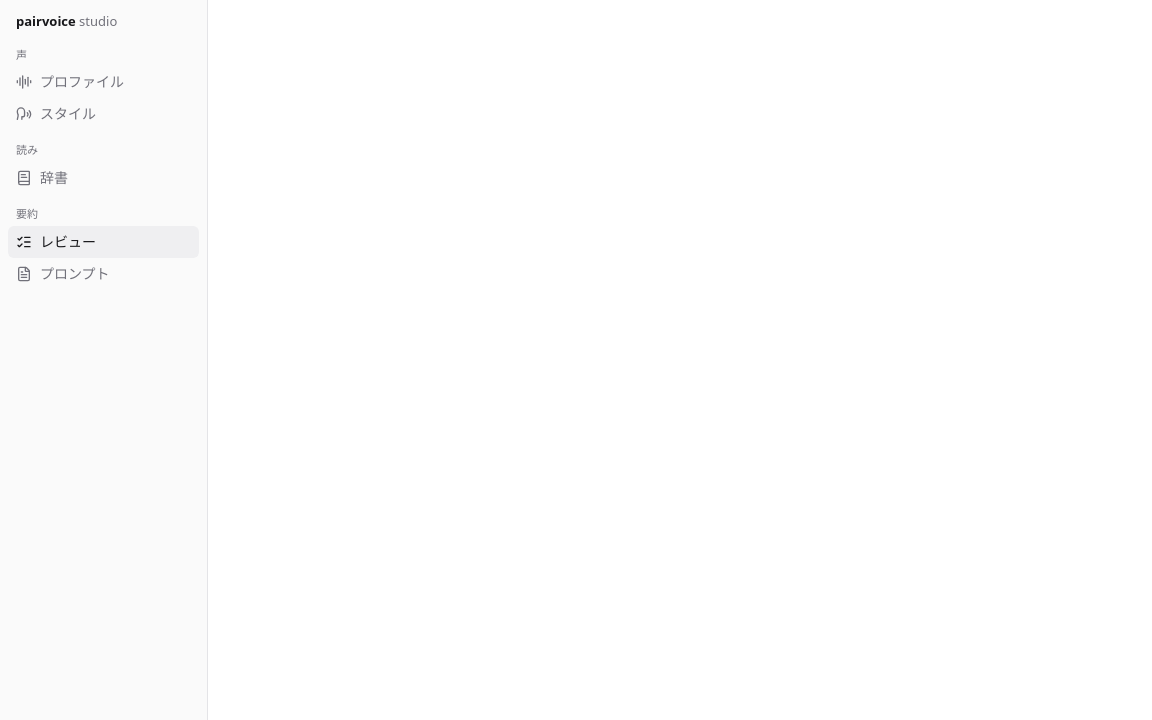
Test: ミュートに失敗したら理由を出す
Press k
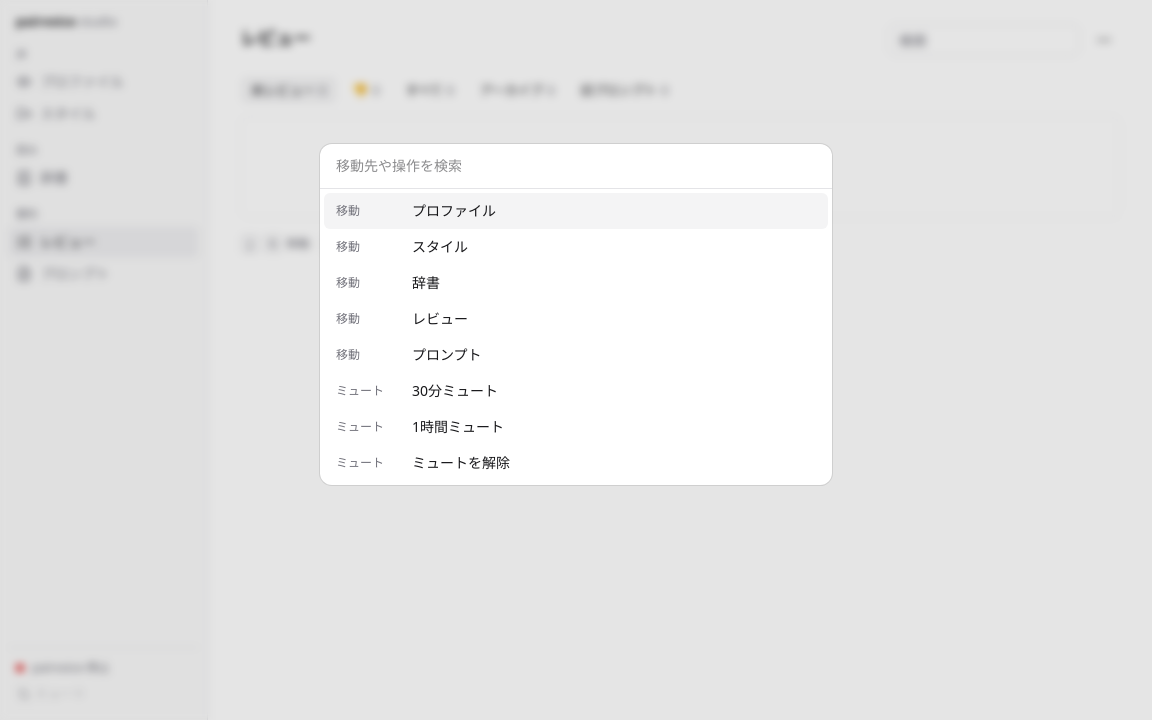
Type "30分" into the dropdown named "コマンドを検索" at x=576, y=166, box [320, 144, 832, 189]
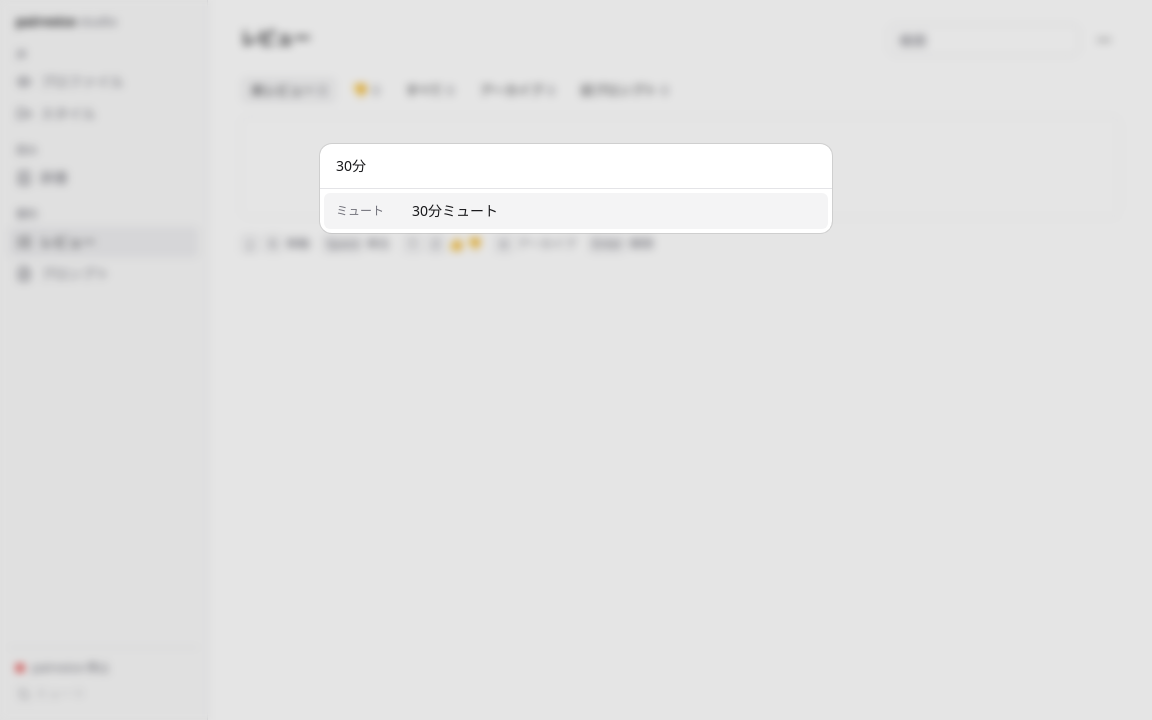
Press Enter in the dropdown named "コマンドを検索", box [320, 144, 832, 189]
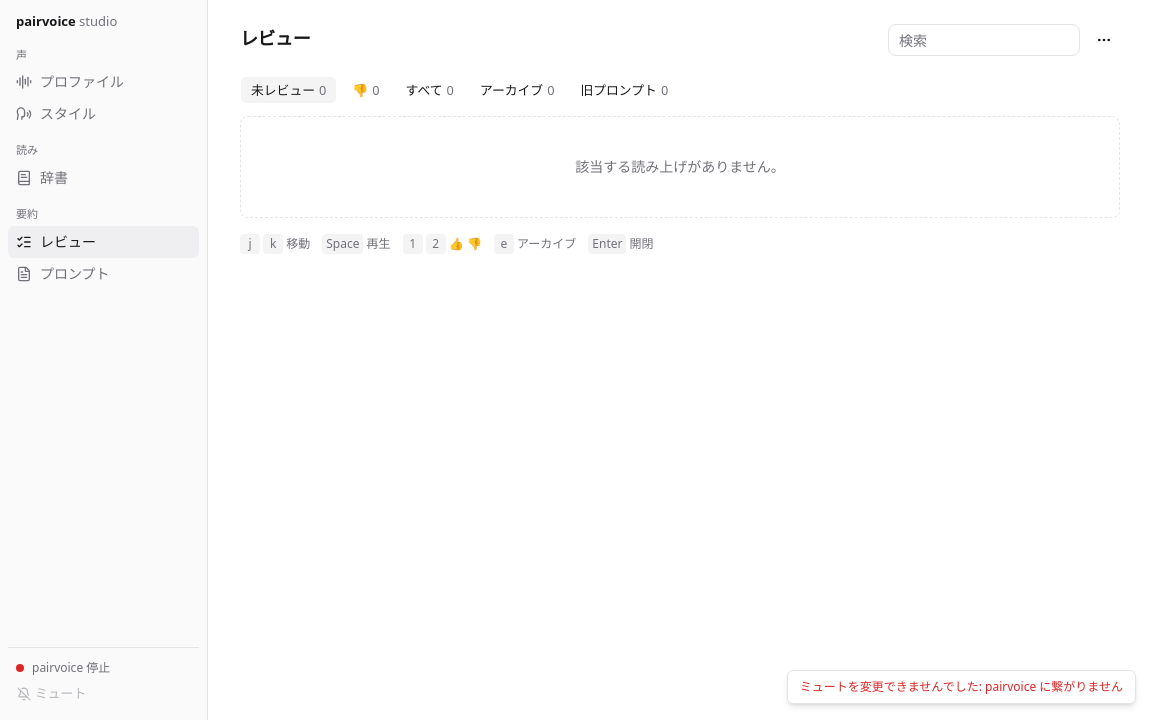
Now the message shows "pairvoice に繋がりません", box [985, 678, 1123, 695]
